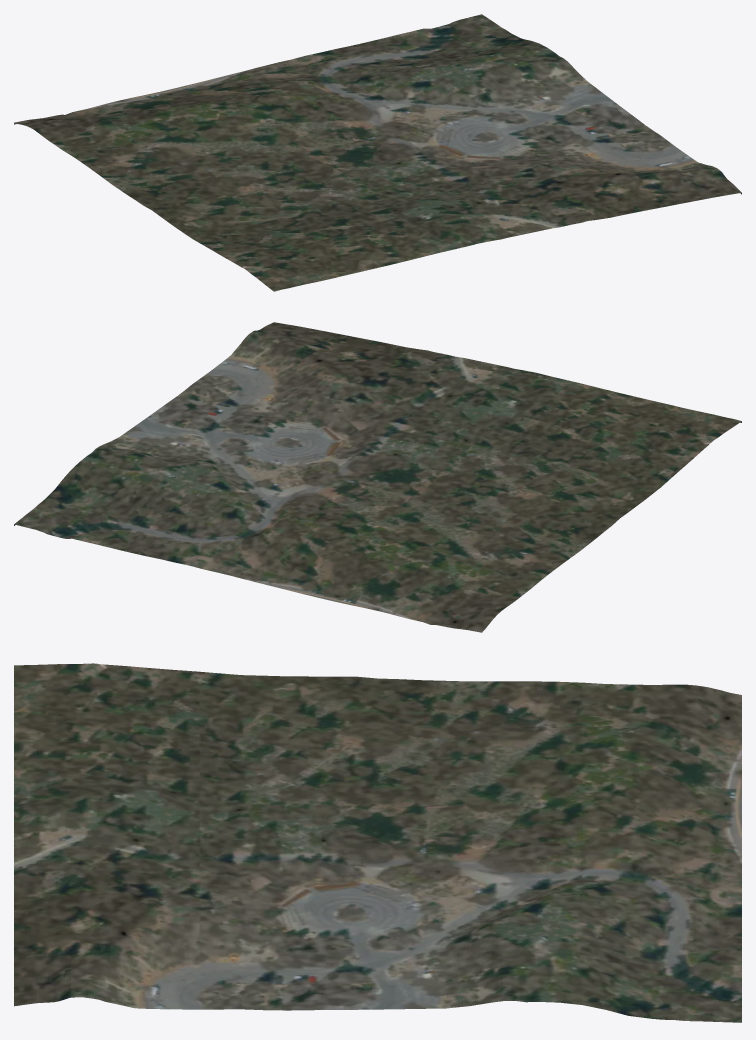
3 renders of one model, top to bottom at view 1: azimuth 30°, elevation 25°; view 2: azimuth 150°, elevation 25°; view 3: azimuth 270°, elevation 25°, orthographic. The views are drawn at different scales.
Size of the model in its own units: 250 by 16.63 by 241.
Materials: 1 (1 with a texture image).
